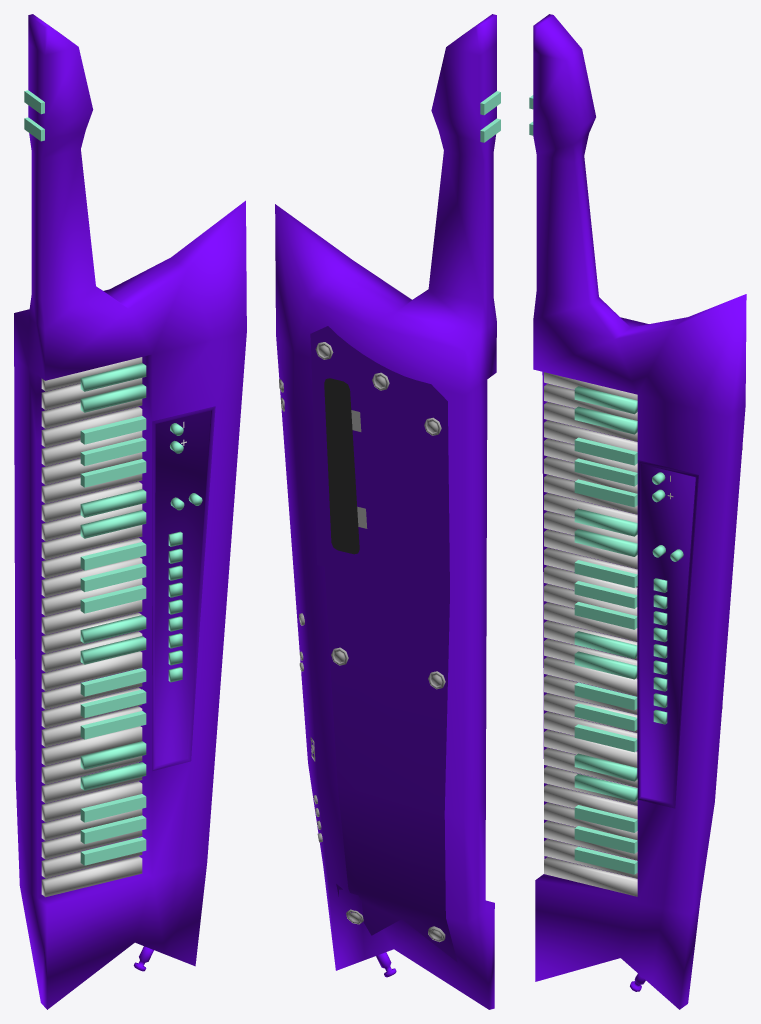
File: Teclado.fbx
The picture shows the model from 3 angles, left to right: view 1: azimuth 30°, elevation 25°; view 2: azimuth 150°, elevation 25°; view 3: azimuth 330°, elevation 25°; orthographic projection. The views are drawn at different scales.
Parts seen in each view (by area): view 1: Cube.002; view 2: Cube.002; view 3: Cube.002.
Part boxes in pixels (x1,y1,x2,y2): Cube.002: (14,14,246,1009); Cube.002: (275,14,500,1009); Cube.002: (529,14,746,1009).
Bounding box in the file's own units: 60.39 × 265 × 17.86.
